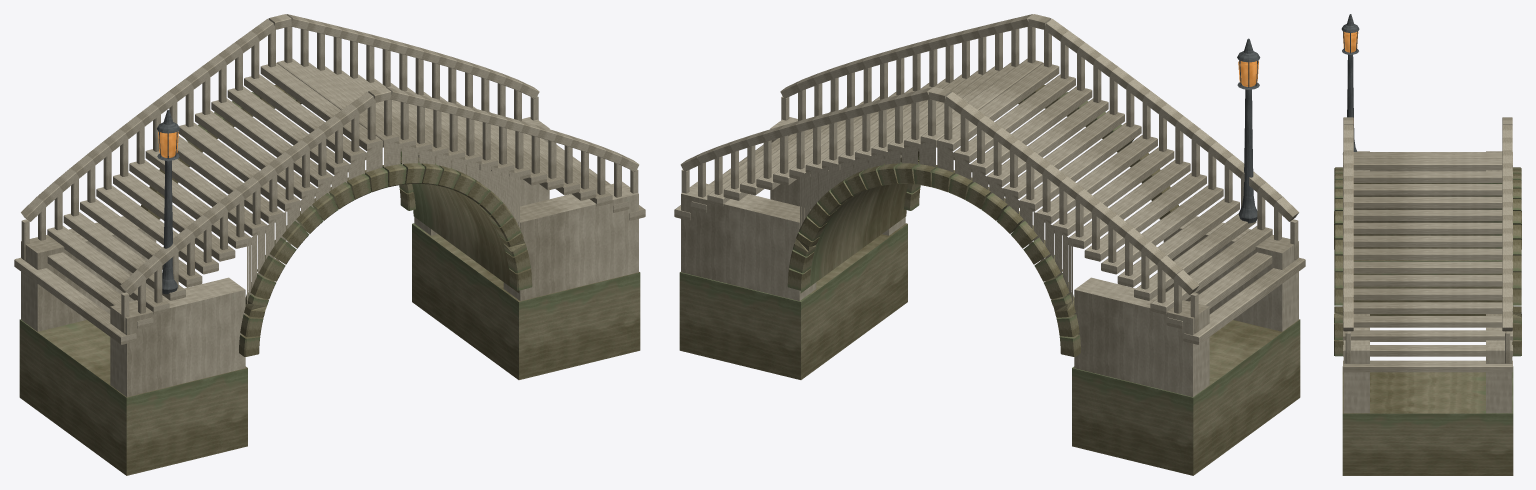
File: venice_stone_arch.glb
3 renders of one model, left to right at view 1: azimuth 30°, elevation 25°; view 2: azimuth 150°, elevation 25°; view 3: azimuth 270°, elevation 25°, orthographic. The views are drawn at different scales.
Parts seen in each view (by area): view 1: venice_stone_arch; view 2: venice_stone_arch; view 3: venice_stone_arch.
Boxes of the visible parts, left/top/right/bottom form: venice_stone_arch: left=14, top=14, right=645, bottom=475; venice_stone_arch: left=674, top=14, right=1305, bottom=475; venice_stone_arch: left=1334, top=14, right=1521, bottom=475.
Size of the model in its own units: 7.2 by 4.6 by 2.8.
Materials: 2 (2 with a texture image).
